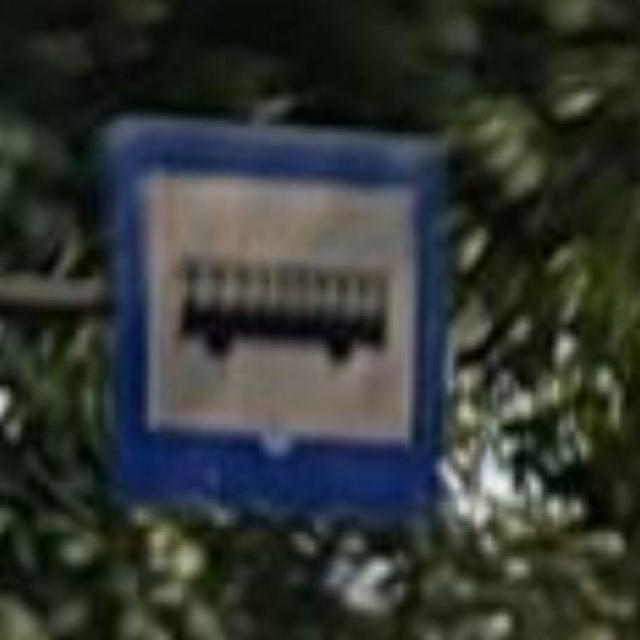traffic sign: (108, 116, 443, 522)
